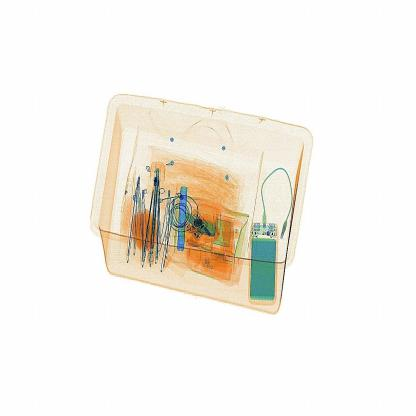pliers: (174, 178, 196, 255)
